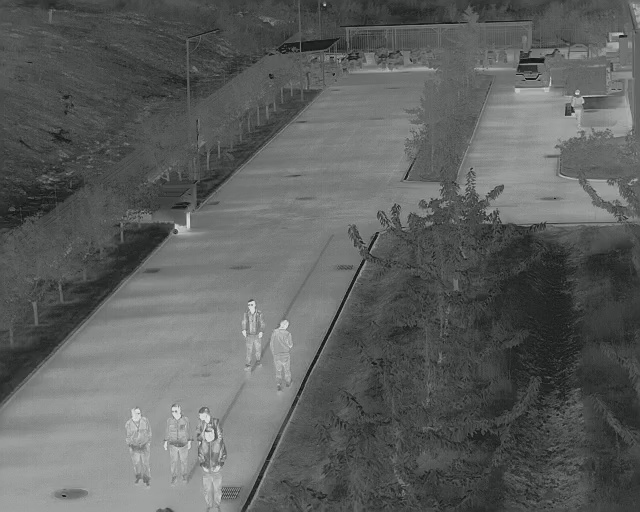person: (123, 405, 153, 487), (164, 403, 191, 483), (201, 431, 226, 512), (240, 298, 265, 371), (269, 316, 293, 392), (572, 88, 583, 126)
vehicle: (512, 56, 553, 95)
